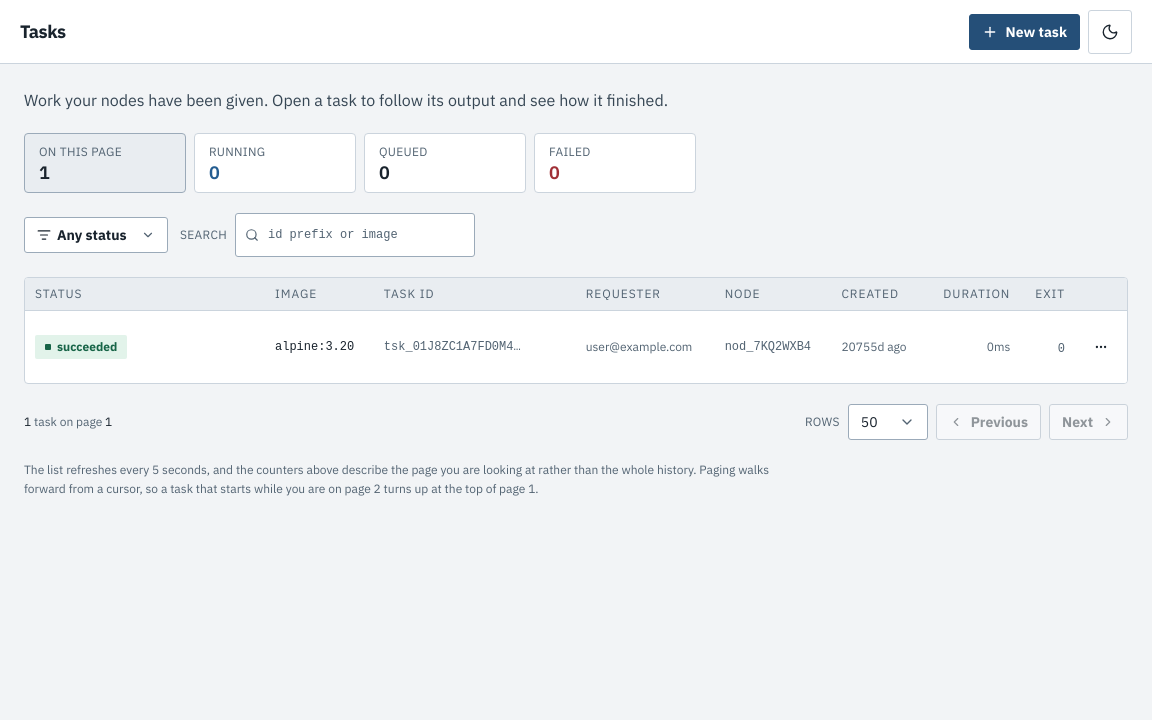
Test: TasksPage › does not offer cancel on a task that has already finished
Click the button named "Actions for task tsk_01J8ZC1A7FD0M4TBQR8HKN" at [1101, 347], box [1085,331,1117,363]
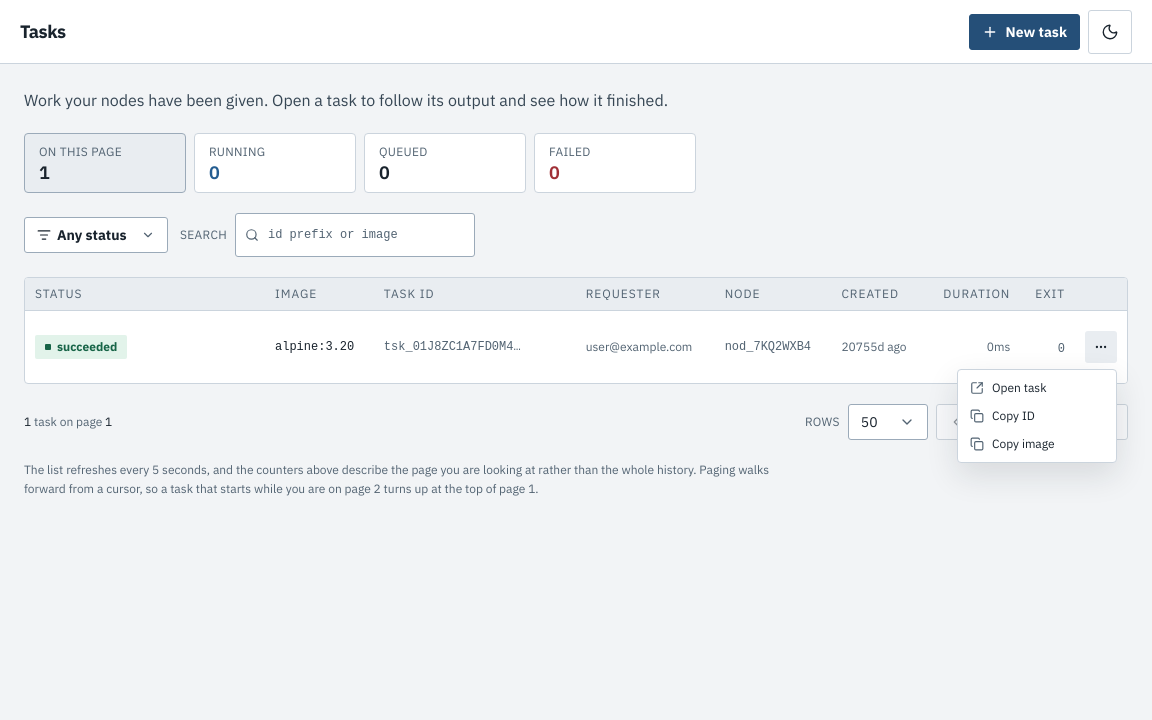
Expected: the menu item "Copy ID" is shown, [970,408,1035,423]
